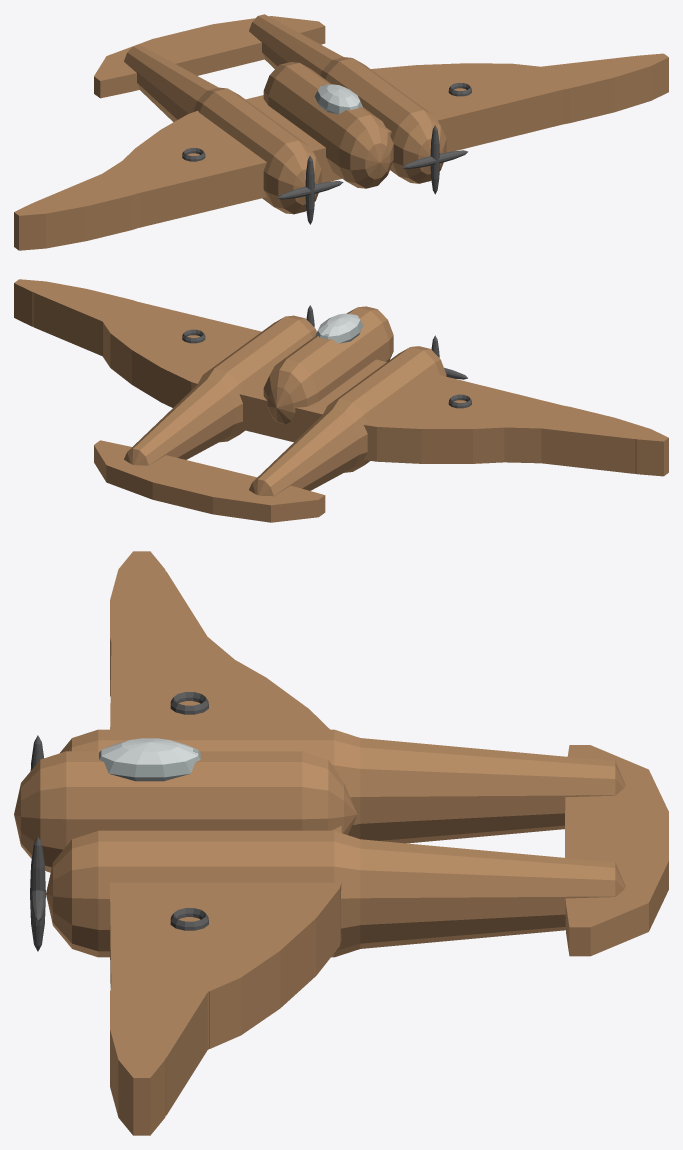
File: bomber.fbx
3 views of the same model, one above another, from view 1: azimuth 30°, elevation 25°; view 2: azimuth 150°, elevation 25°; view 3: azimuth 270°, elevation 25° (orthographic). The views are drawn at different scales.
Visible parts, largest first — view 1: wing, engine, engine_1, cockpit, tail, sphere, prop, sphere_1; view 2: wing, engine, engine_1, tail, cockpit, sphere; view 3: wing, engine_1, engine, cockpit, tail, sphere, prop.
Part boxes in pixels (<box>): wing: <box>14,53,668,250</box>; engine: <box>124,44,321,214</box>; engine_1: <box>249,14,446,183</box>; cockpit: <box>263,62,393,188</box>; tail: <box>94,16,325,98</box>; sphere: <box>314,84,363,114</box>; prop: <box>402,125,467,194</box>; sphere_1: <box>277,155,343,224</box>; wing: <box>14,279,668,476</box>; engine: <box>249,346,446,496</box>; engine_1: <box>124,315,316,465</box>; tail: <box>94,440,325,522</box>; cockpit: <box>263,306,393,424</box>; sphere: <box>314,313,363,343</box>; wing: <box>110,551,341,1135</box>; engine_1: <box>46,830,625,957</box>; engine: <box>60,729,625,843</box>; cockpit: <box>14,751,357,872</box>; tail: <box>565,745,668,956</box>; sphere: <box>99,738,200,781</box>; prop: <box>30,836,45,951</box>.
Size of the model in its own units: 975 by 138 by 512.
Materials: 3 (3 with a texture image).
